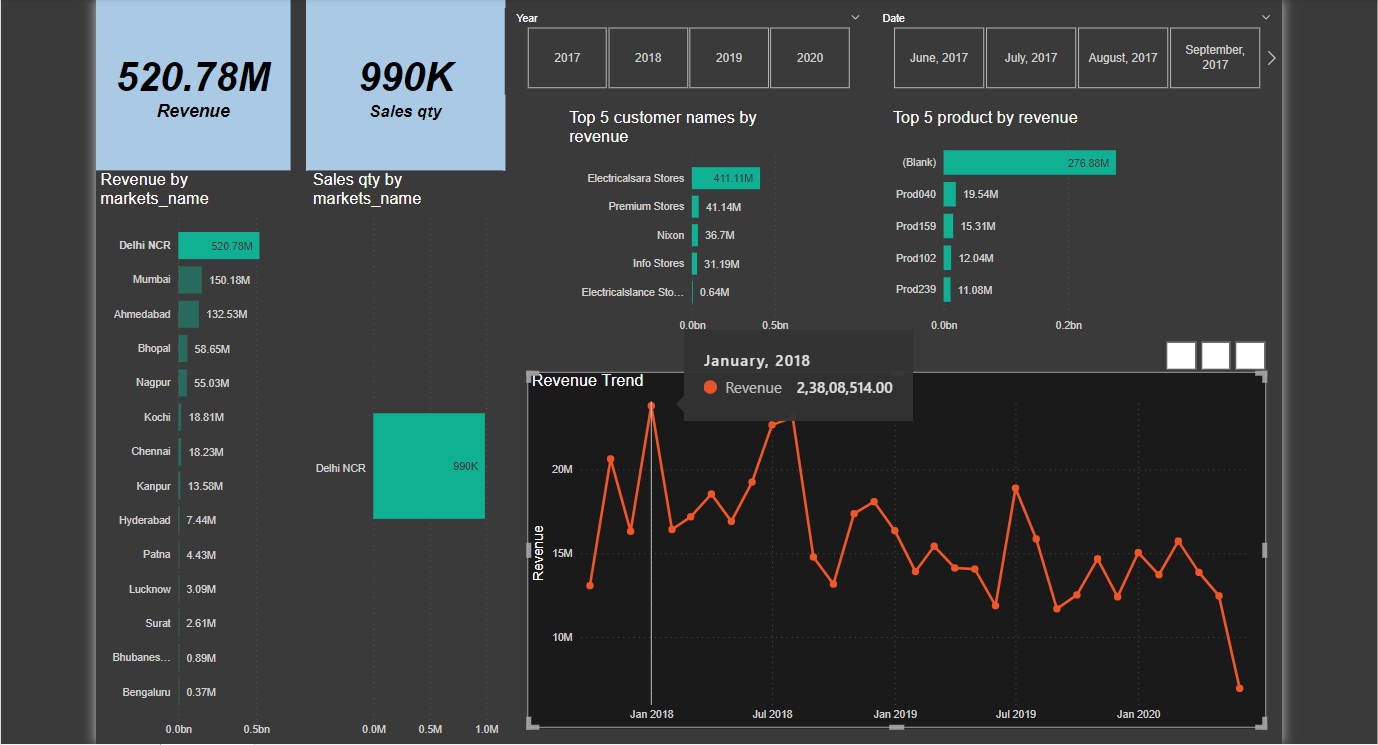

What the dashboard file says about the page in this screenshot:
{"tool":"powerbi","page":{"name":"Page 1","canvas":[1350,850],"ordinal":0},"visuals":[{"type":"card","fields":{"Values":["Base_Mesure.Revenue"]},"box":[0,0,221.4,196.8],"z":0},{"type":"card","fields":{"Values":["Base_Mesure.Sales qty"]},"box":[238.8,0,227.2,196.8],"z":1000},{"type":"barChart","fields":{"Category":["sales markets.markets_name"],"Y":["Base_Mesure.Revenue"]},"box":[0,196.8,221.4,652.7],"z":2000},{"type":"barChart","fields":{"Category":["sales markets.markets_name"],"Y":["Base_Mesure.Sales qty"]},"box":[241.7,196.8,221.4,652.7],"z":3000},{"type":"slicer","fields":{"Values":["sales date.year"]},"box":[466,11.6,416.8,98.4],"z":4000},{"type":"slicer","fields":{"Values":["sales date.cy_date"]},"box":[882.8,11.6,467.5,98.4],"z":5000},{"type":"barChart","title":"Top 5 customer names by revenue","fields":{"Category":["sales customers.custmer_name"],"Y":["Base_Mesure.Revenue"]},"box":[534,125.9,279.3,263.4],"z":6000},{"type":"barChart","title":"Top 5 product by revenue","fields":{"Category":["sales products.product_code"],"Y":["Base_Mesure.Revenue"]},"box":[903.1,125.9,296.7,263.4],"z":7000},{"type":"lineChart","title":"Revenue Trend","fields":{"Y":["Base_Mesure.Revenue"],"Category":["sales date.cy_date"]},"box":[471.8,425.5,861.1,315.5],"z":8000}]}

Visuals, with their boxes on the page's 1350x850 design canvas (x1, y1, x2, y2). These are canvas units, not pixel positions in the 1378x745 screenshot, which may show the page scaled, cropped or inside an application window:
card - Base_Mesure.Revenue: <box>0,0,221,197</box>
card - Base_Mesure.Sales qty: <box>239,0,466,197</box>
barChart - sales markets.markets_name x Base_Mesure.Revenue: <box>0,197,221,850</box>
barChart - sales markets.markets_name x Base_Mesure.Sales qty: <box>242,197,463,850</box>
slicer - sales date.year: <box>466,12,883,110</box>
slicer - sales date.cy_date: <box>883,12,1350,110</box>
"Top 5 customer names by revenue" barChart: <box>534,126,813,389</box>
"Top 5 product by revenue" barChart: <box>903,126,1200,389</box>
"Revenue Trend" lineChart: <box>472,426,1333,741</box>
